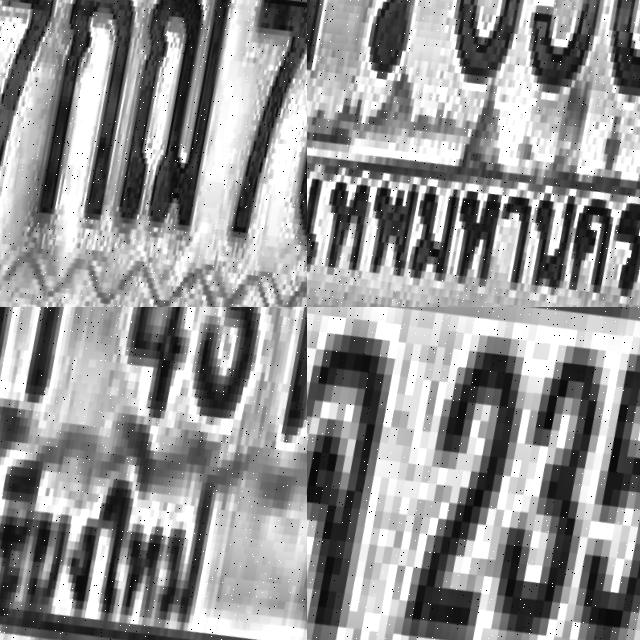license-plate: (307, 307, 640, 640), (307, 0, 640, 307), (0, 307, 307, 640), (0, 0, 307, 307)
